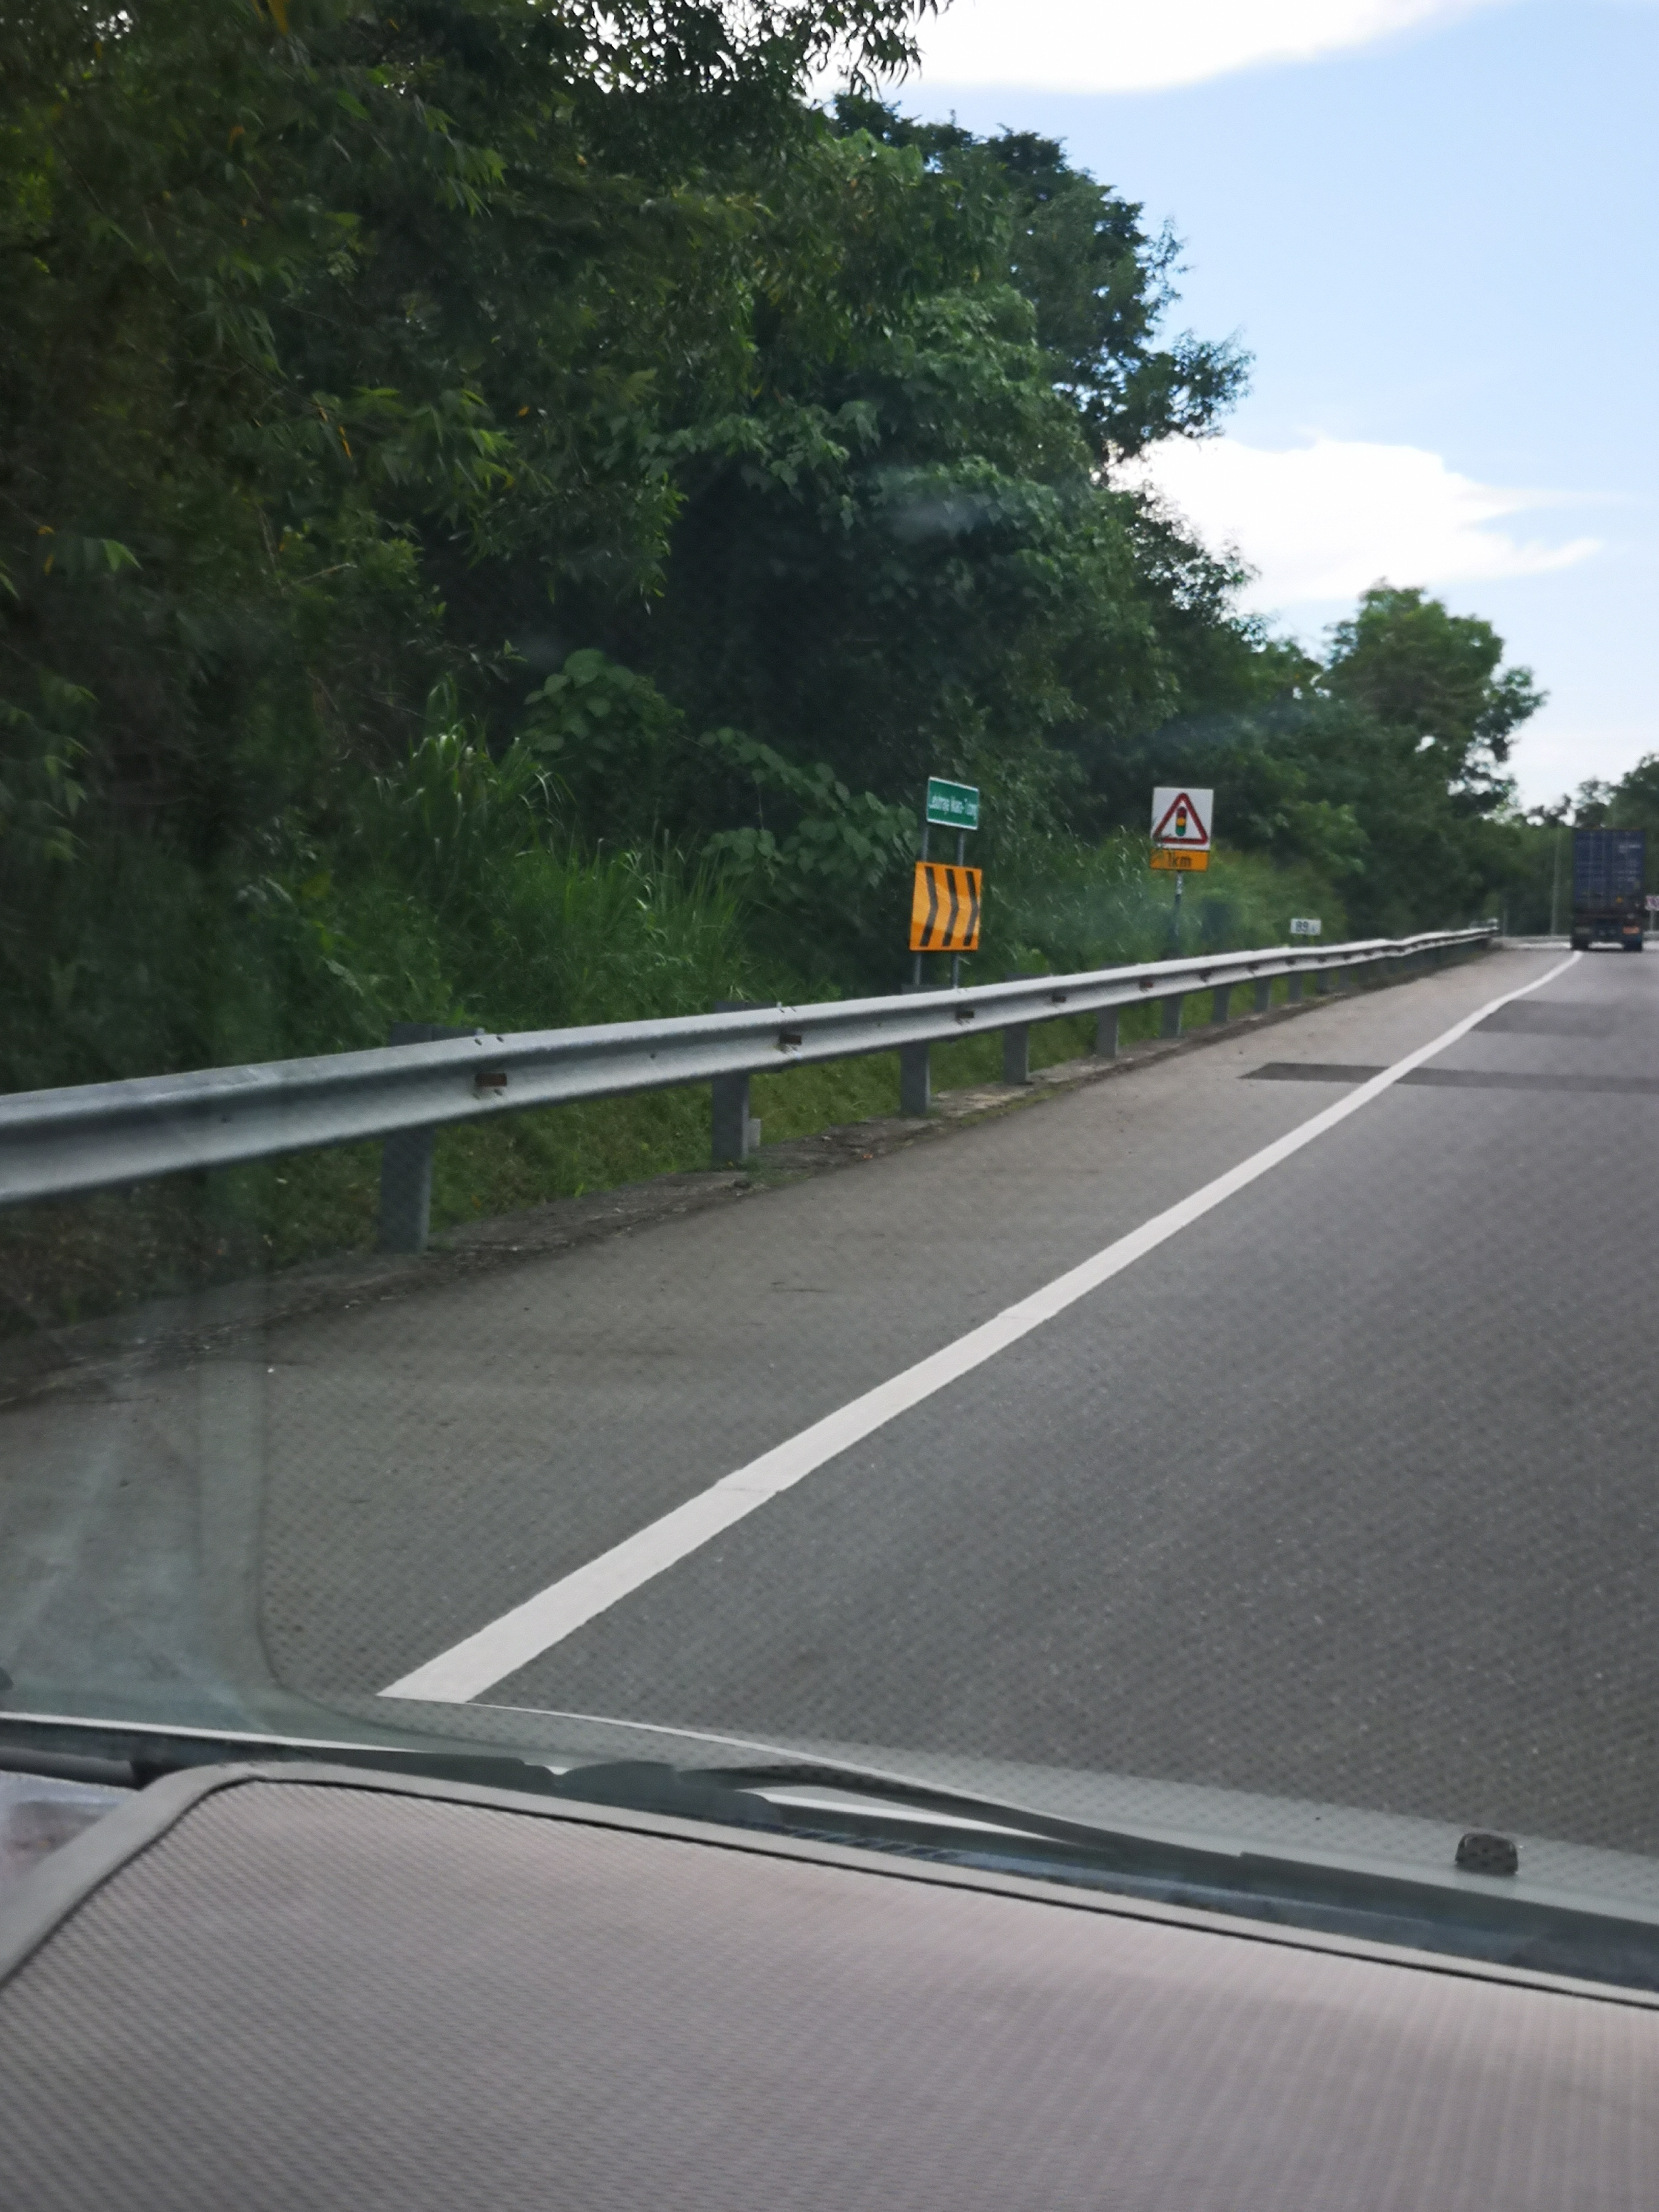1 km: (1150, 848, 1213, 876)
Traffic Signals Ahead: (1154, 786, 1211, 845)
